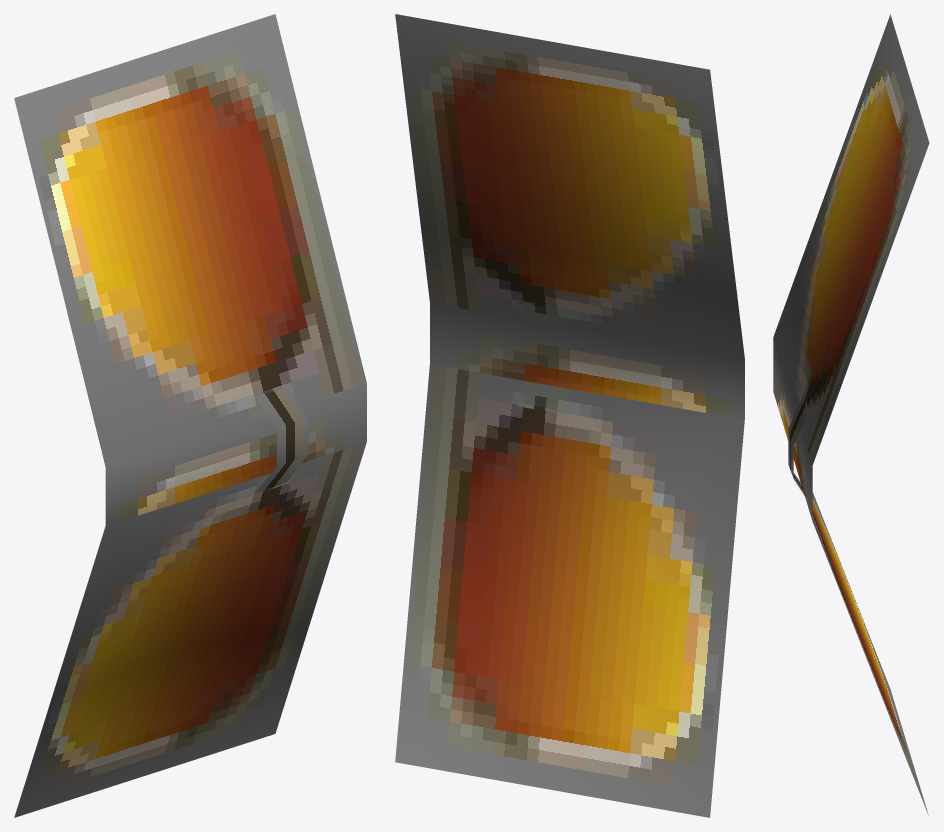
File: acc_glass_gradation.dae
3 renders of one model, left to right at view 1: azimuth 30°, elevation 25°; view 2: azimuth 150°, elevation 25°; view 3: azimuth 270°, elevation 25°, orthographic. The views are drawn at different scales.
Visible parts, largest first — view 1: acc_glass_gradation; view 2: acc_glass_gradation; view 3: acc_glass_gradation.
Part boxes in pixels (<box>): acc_glass_gradation: <box>14,14,366,817</box>; acc_glass_gradation: <box>395,14,744,817</box>; acc_glass_gradation: <box>773,14,929,815</box>.
Size of the model in its own units: 7.66 by 16.94 by 3.55.
1 material, 1 textured.
